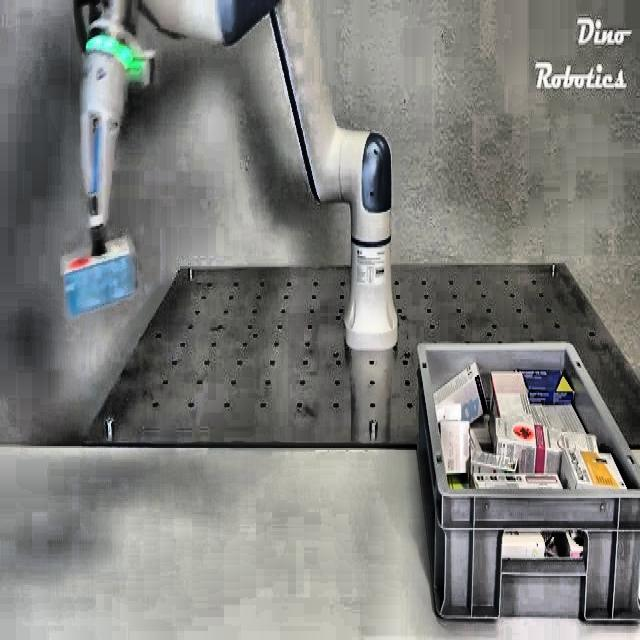robot: (61, 0, 398, 350)
